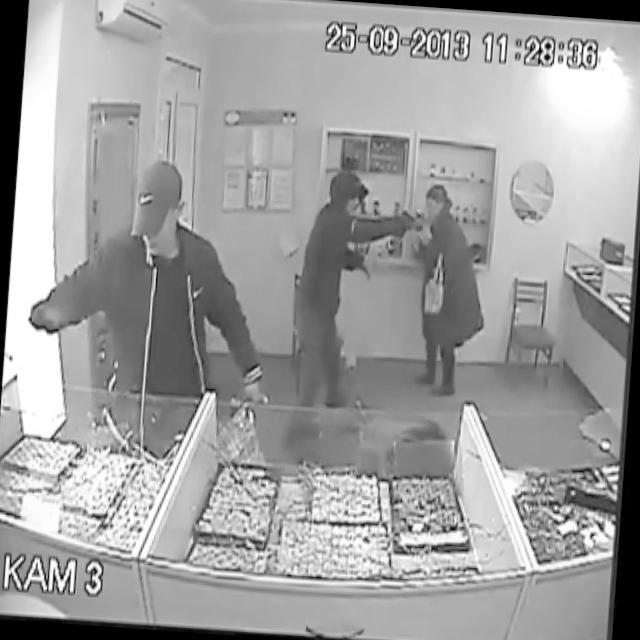gun: (382, 190, 424, 256)
person: (82, 146, 212, 338), (420, 180, 478, 404)
person with a gun: (272, 155, 426, 408)
